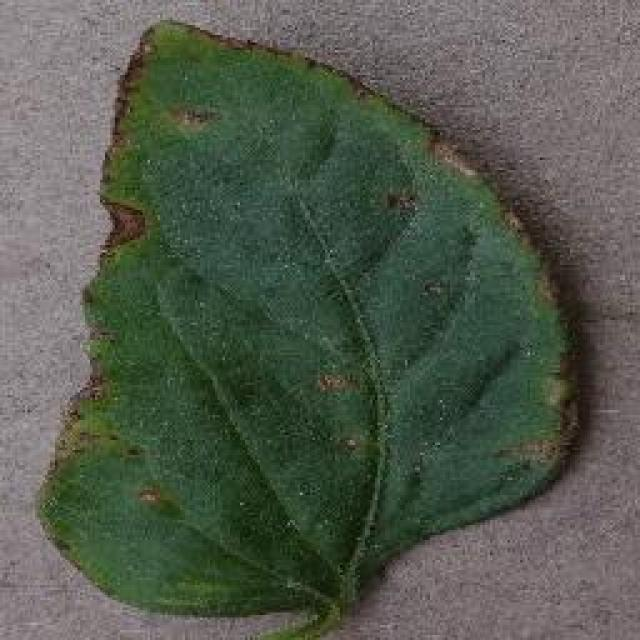Tomato bacterial spot leaf: (31, 14, 596, 627)
